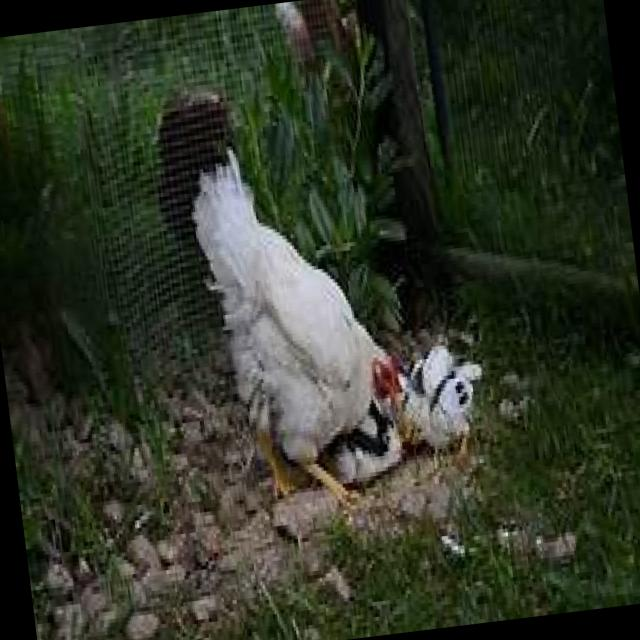chicken: (144, 64, 416, 524)
